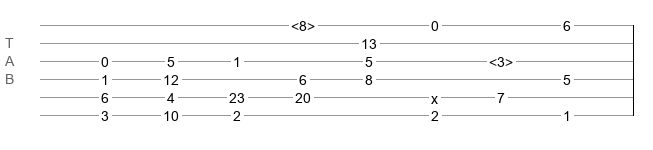0: (101, 54, 109, 64), (431, 18, 439, 28)
1: (101, 72, 109, 82), (233, 54, 241, 64), (563, 108, 571, 118)
10: (163, 108, 179, 118)
12: (163, 72, 179, 82)
13: (361, 36, 377, 46)
2: (233, 108, 241, 118), (431, 108, 439, 118)
20: (295, 90, 311, 100)
23: (229, 90, 245, 100)
3: (101, 108, 109, 118)
4: (167, 90, 175, 100)
5: (167, 54, 175, 64), (365, 54, 373, 64), (563, 72, 571, 82)
6: (101, 90, 109, 100), (299, 72, 307, 82), (563, 18, 571, 28)
7: (497, 90, 505, 100)
8: (365, 72, 373, 82)
harmonic: (291, 18, 315, 28), (489, 54, 513, 64)
x: (431, 91, 438, 99)
